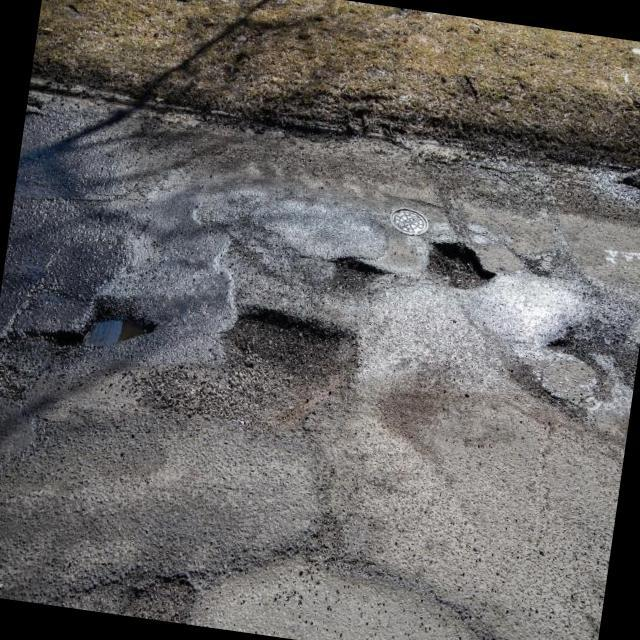Pothole: (134, 308, 358, 432), (56, 314, 151, 347), (428, 242, 488, 287), (330, 257, 386, 293)
